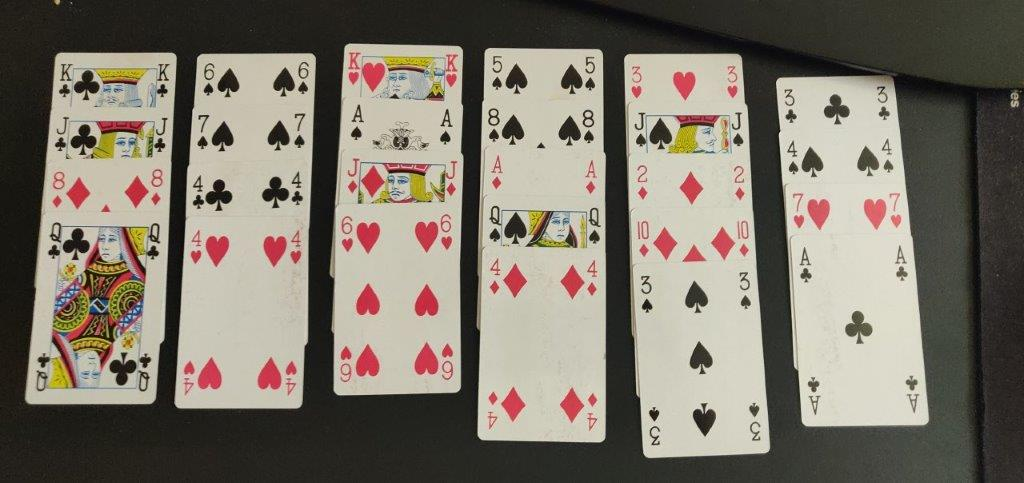10D: (734, 218, 753, 258), (635, 219, 652, 257)
2D: (730, 162, 748, 205), (634, 163, 652, 200)
3C: (873, 81, 894, 125), (780, 84, 801, 127)
3H: (627, 63, 647, 105), (724, 61, 741, 101)
3S: (636, 272, 657, 317), (734, 267, 754, 310)
4C: (189, 171, 210, 213), (288, 168, 307, 213)
4D: (580, 256, 602, 295), (486, 257, 503, 297)
4H: (187, 227, 207, 268), (288, 225, 303, 270)
4S: (784, 137, 802, 179), (880, 135, 896, 178)
5S: (581, 53, 597, 97), (488, 54, 505, 92)
6H: (438, 212, 458, 256), (338, 212, 357, 256)
6S: (200, 60, 216, 101), (295, 57, 310, 98)
7H: (788, 190, 809, 235), (885, 189, 902, 227)
7S: (194, 111, 215, 154), (291, 107, 306, 152)
8D: (49, 169, 68, 211), (147, 165, 165, 209)
8S: (580, 107, 598, 146), (485, 105, 502, 145)
AC: (893, 242, 911, 290), (796, 244, 816, 285)
AD: (487, 152, 508, 193), (583, 159, 598, 197)
AS: (345, 99, 367, 144), (437, 105, 454, 151)
JC: (51, 113, 73, 156), (151, 115, 169, 154)
JD: (343, 152, 363, 197), (443, 156, 461, 200)
JS: (631, 110, 651, 150), (728, 111, 745, 150)
KC: (55, 57, 73, 101), (154, 60, 173, 101)
KH: (442, 51, 461, 92), (345, 46, 363, 88)
QC: (145, 221, 165, 263), (47, 220, 65, 266)
QS: (486, 203, 502, 243), (587, 204, 602, 246)
